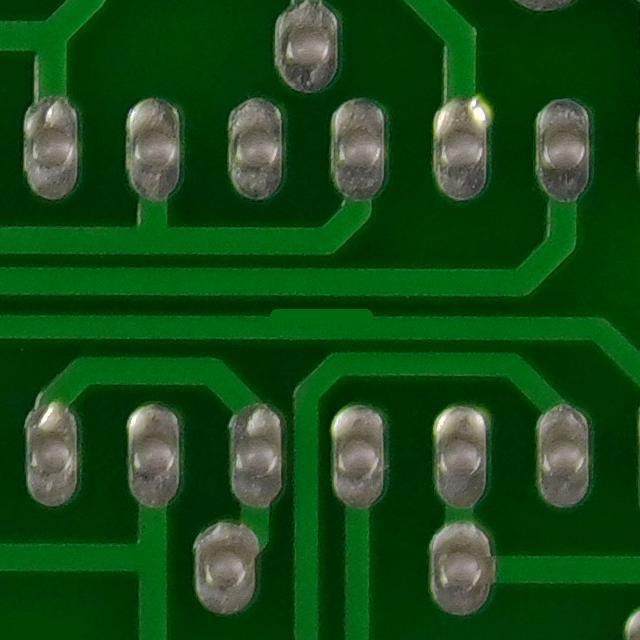spur: (250, 296, 390, 345)
